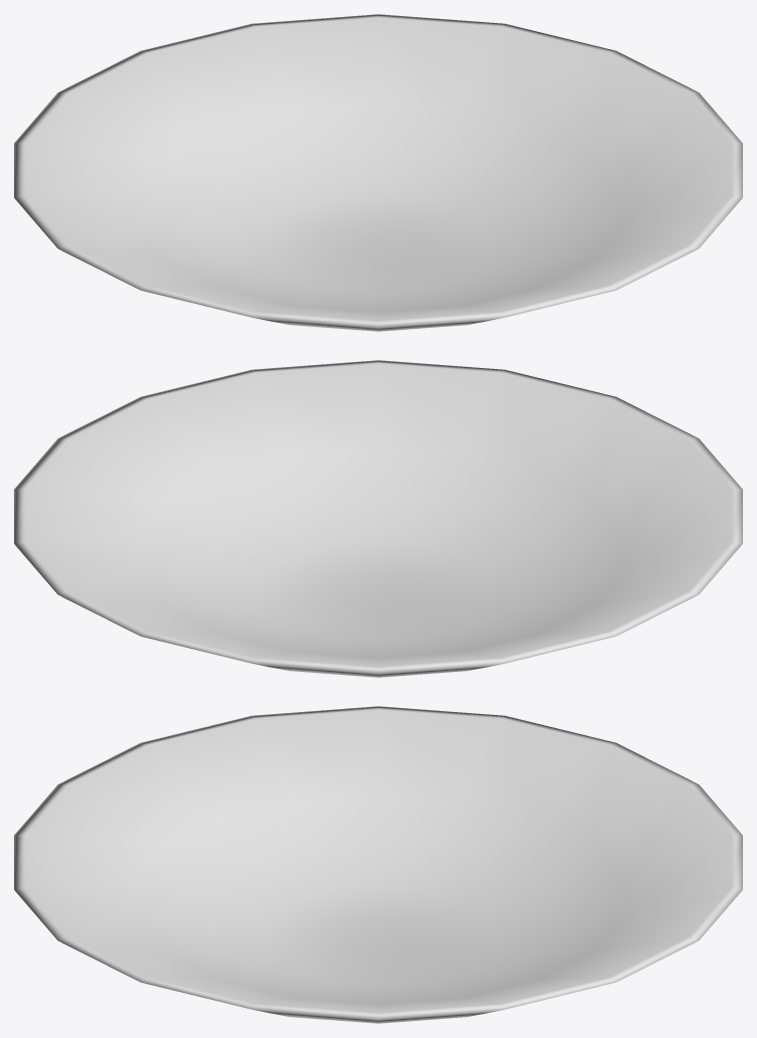
The model's file is Dish.fbx.
The picture shows the model from 3 angles, top to bottom: view 1: azimuth 30°, elevation 25°; view 2: azimuth 150°, elevation 25°; view 3: azimuth 270°, elevation 25°; orthographic projection.
Visible parts, largest first — view 1: Dish; view 2: Dish; view 3: Dish.
Boxes of the visible parts, x1,y1,x2,y2 form: Dish: [14, 14, 742, 331]; Dish: [14, 360, 742, 677]; Dish: [14, 706, 742, 1023].
Bounding box in the file's own units: 6.12 × 0.8389 × 6.03.
1 material, 1 textured.
